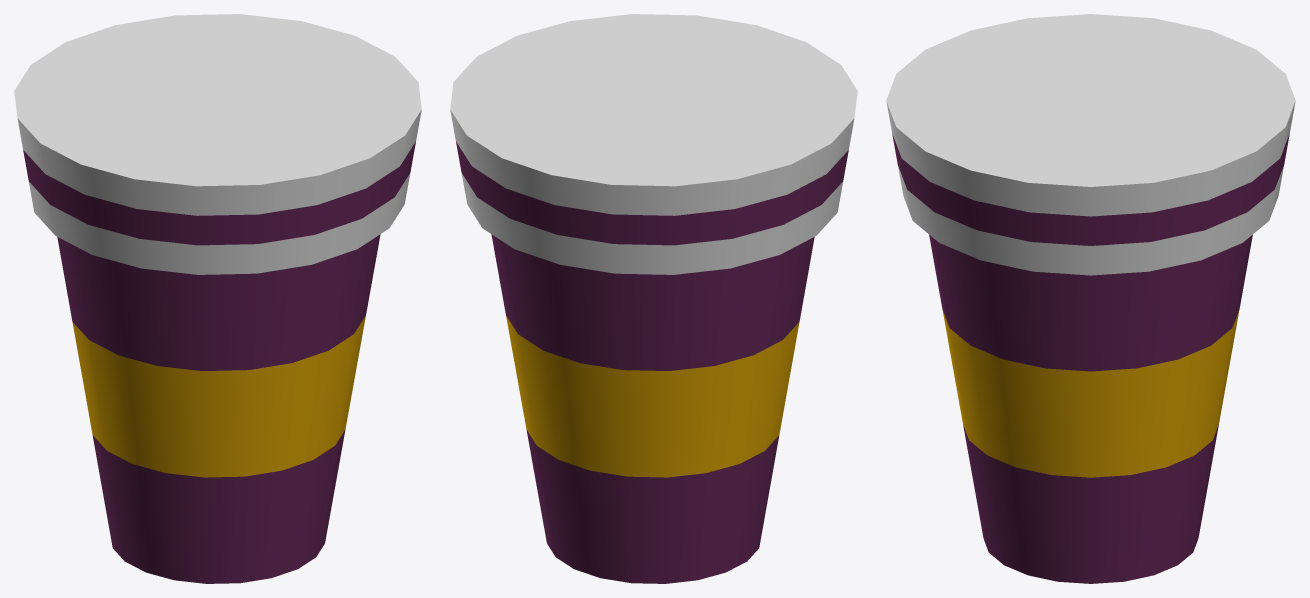
Rendered from Drink.fbx.
3 renders of one model, left to right at view 1: azimuth 30°, elevation 25°; view 2: azimuth 150°, elevation 25°; view 3: azimuth 270°, elevation 25°, orthographic.
Parts seen in each view (by area): view 1: pCylinder1; view 2: pCylinder1; view 3: pCylinder1.
Boxes of the visible parts, x1,y1,x2,y2 form: pCylinder1: [14, 14, 421, 583]; pCylinder1: [450, 14, 857, 583]; pCylinder1: [886, 14, 1295, 583].
Size of the model in its own units: 2.26 by 2.67 by 2.26.
